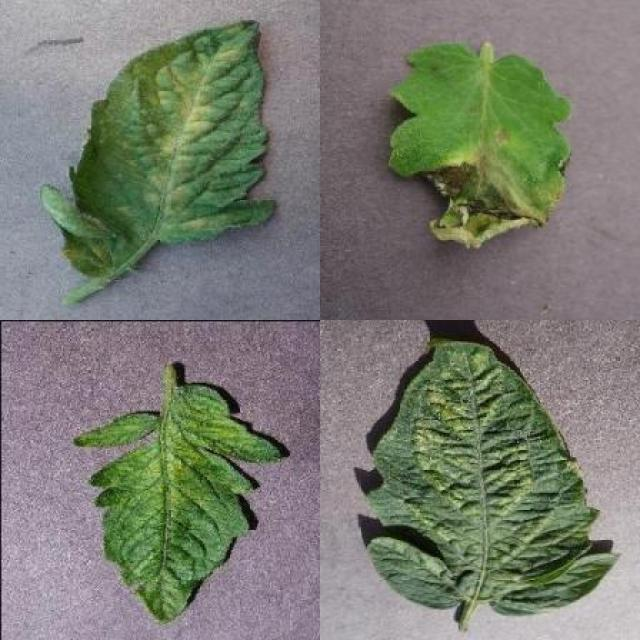Late Blight: (386, 44, 574, 250)
Leaf Mold: (42, 20, 279, 277)
Mosaic Virus: (71, 382, 282, 625)
Spider Mites: (363, 338, 620, 616)
